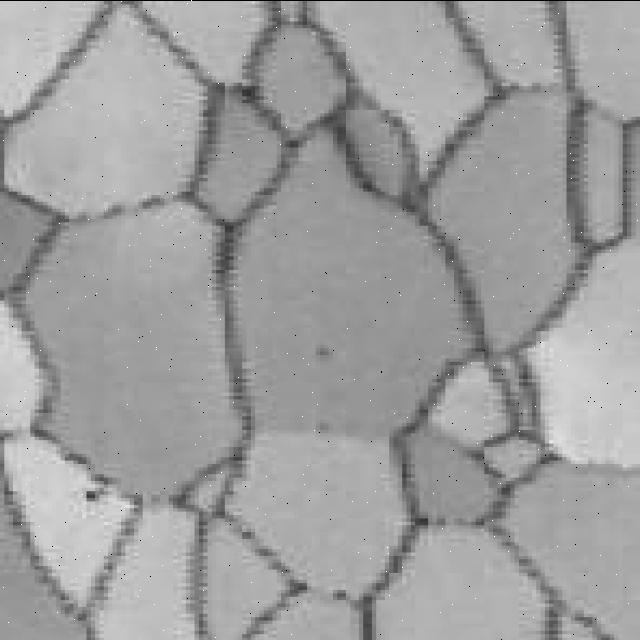good_void: (82, 480, 105, 508)
